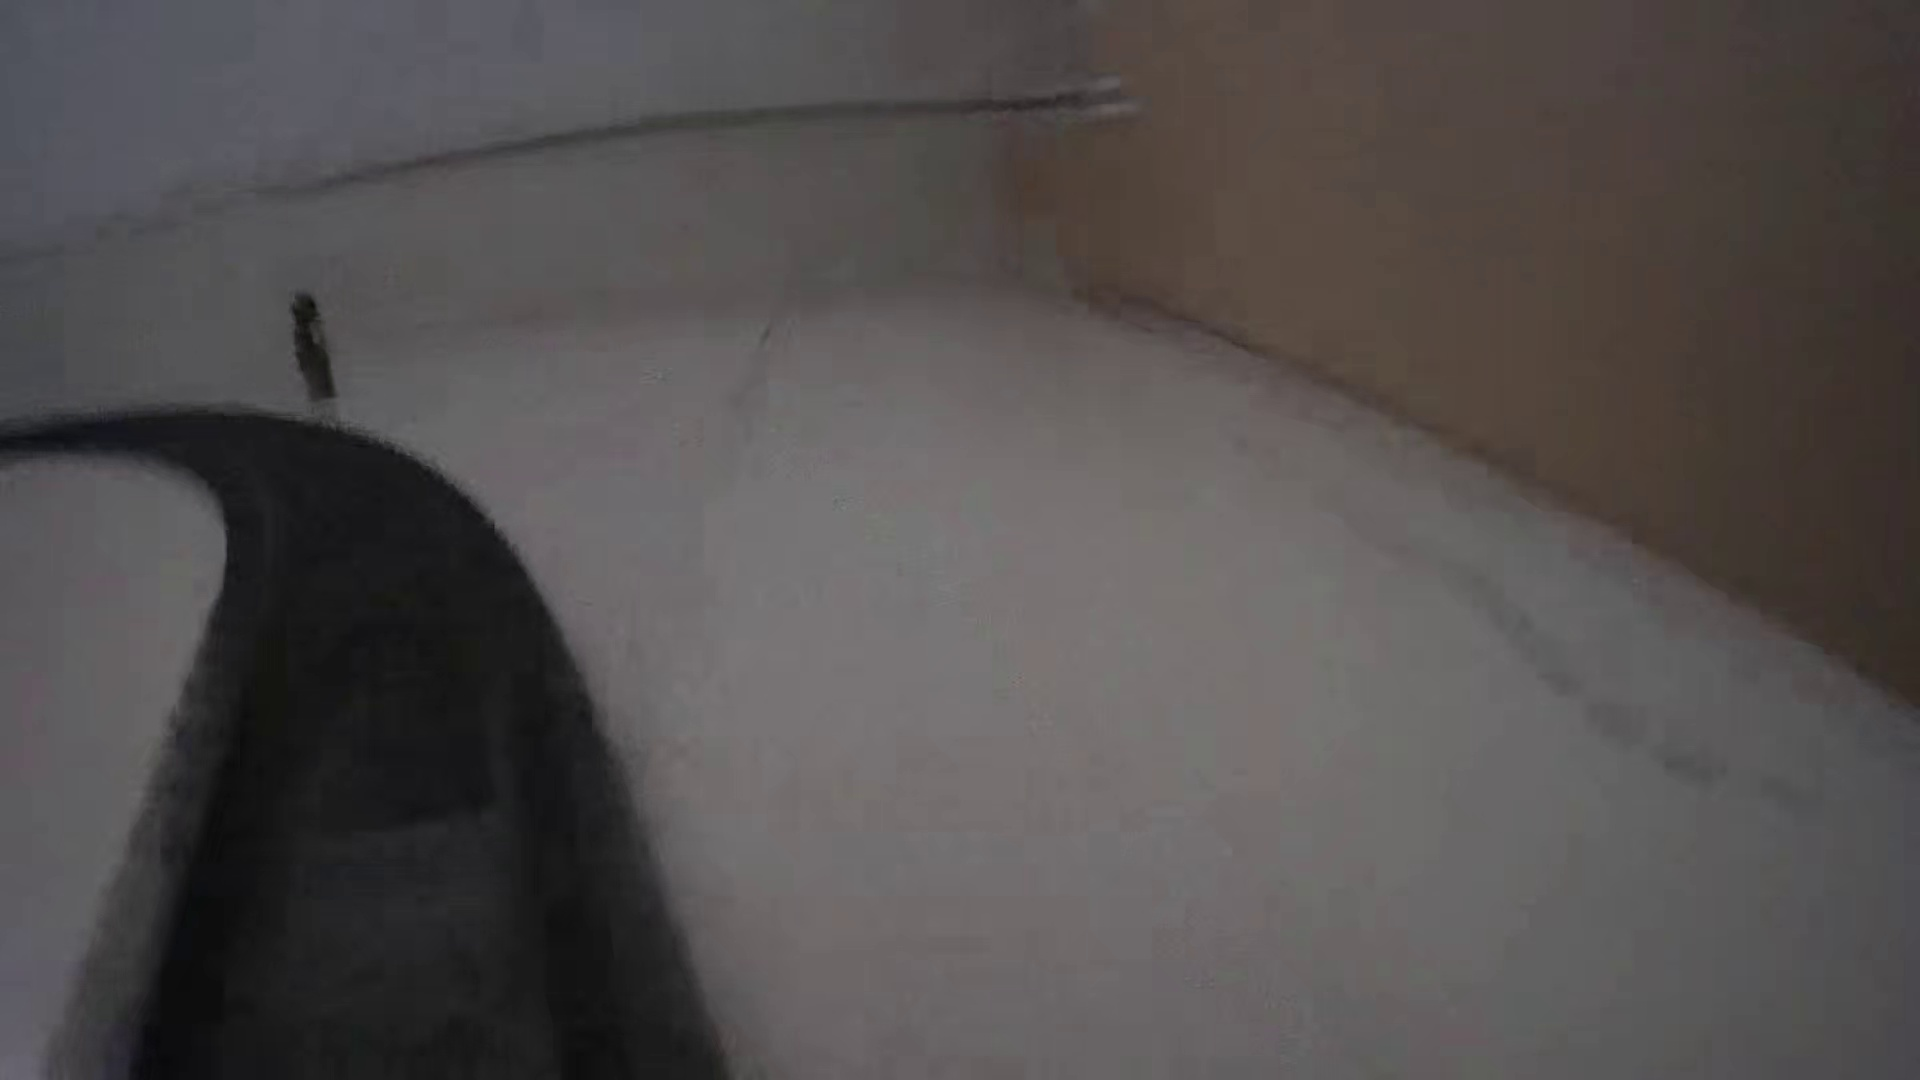people: (290, 289, 339, 401)
